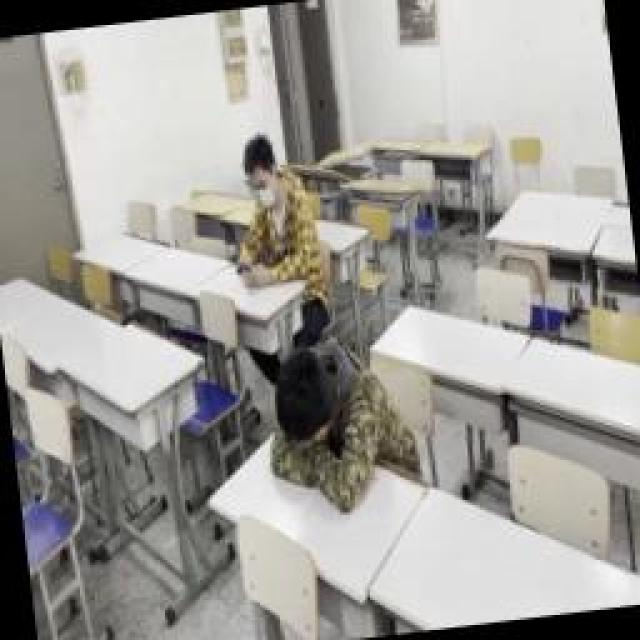phone: (217, 125, 325, 287)
sleep: (257, 330, 425, 525)
